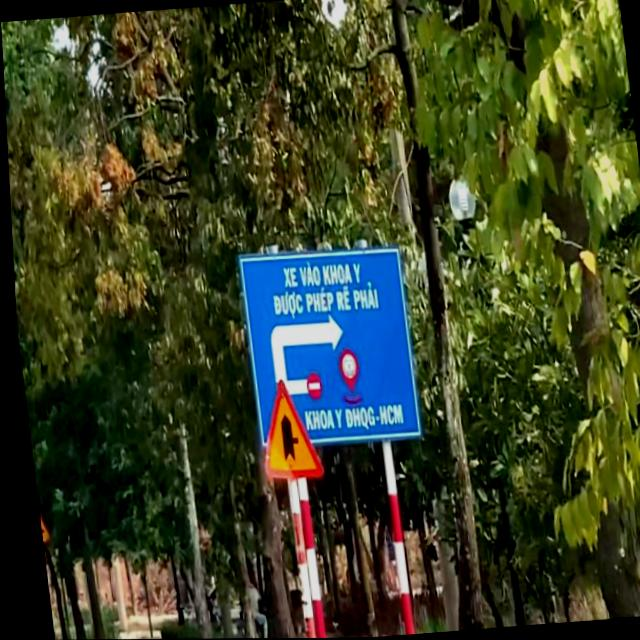Giao nhau voi duong khong uu tien ben phai: (245, 370, 323, 487)
